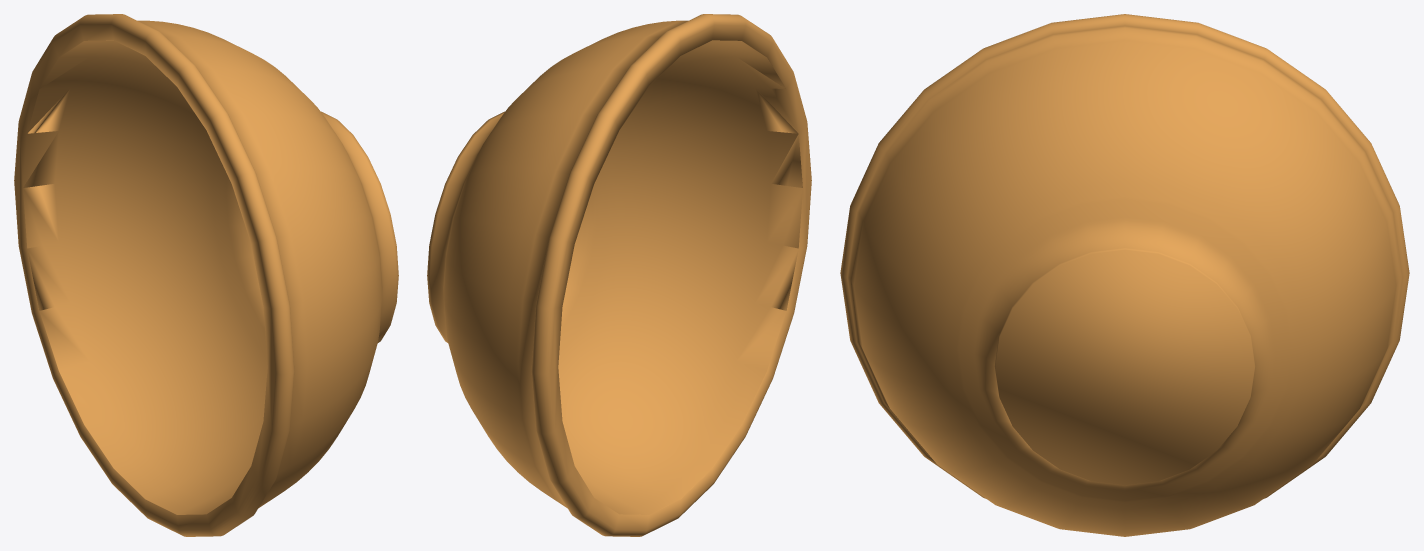
The model's file is bowl1_6.dae.
The picture shows the model from 3 angles, left to right: view 1: azimuth 30°, elevation 25°; view 2: azimuth 150°, elevation 25°; view 3: azimuth 270°, elevation 25°; orthographic projection. The views are drawn at different scales.
Visible parts, largest first — view 1: bowl1_019; view 2: bowl1_019; view 3: bowl1_019.
Part boxes in pixels (x1,y1,x2,y2): bowl1_019: (14,14,398,536); bowl1_019: (427,14,811,536); bowl1_019: (840,14,1409,536).
Size of the model in its own units: 0.0894 by 0.217 by 0.217.
